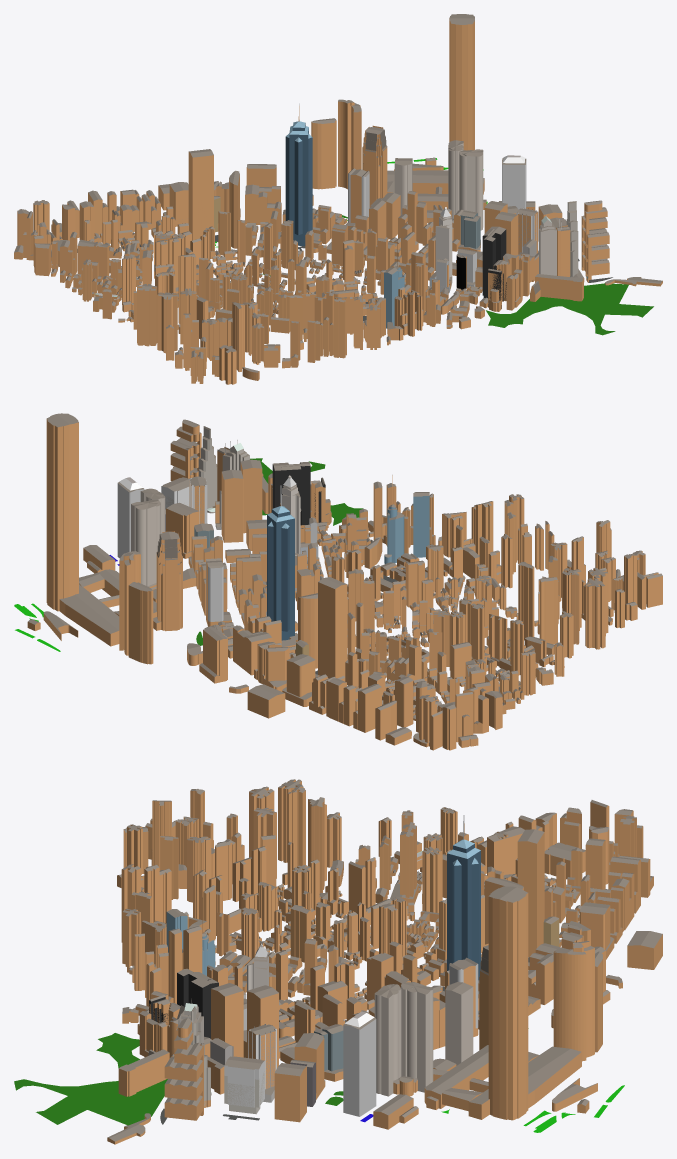
Rendered from HK_full.fbx.
3 renders of one model, top to bottom at view 1: azimuth 30°, elevation 25°; view 2: azimuth 150°, elevation 25°; view 3: azimuth 270°, elevation 25°, orthographic. The views are drawn at different scales.
Visible parts, largest first — view 1: element.200, 國際金融中心二期 Two International Finance Centre, 交易廣場 Exchange Square, 中環中心 The Center, map_3.osm_forest, 中遠大廈 Cosco Tower, 滙豐總行大廈 HSBC Main Building, 國際金融中心一期 One International Finance Centre, 國際金融中心商場 International Finance Centre Mall, 置地廣塲中庭 LANDMARK ATRIUM, 雍景臺1座 Robinson Place Tower 1, 怡和大廈 Jardine House (+28 smaller); view 2: 國際金融中心二期 Two International Finance Centre, 中環中心 The Center, element.200, 國際金融中心商場 International Finance Centre Mall, 中遠大廈 Cosco Tower, 置地廣塲中庭 LANDMARK ATRIUM, 國際金融中心一期 One International Finance Centre, 交易廣場 Exchange Square, 滙豐總行大廈 HSBC Main Building, element.039, 雍景臺1座 Robinson Place Tower 1, 海港政府大樓 Harbour Building (+50 smaller); view 3: 國際金融中心二期 Two International Finance Centre, 交易廣場 Exchange Square, element.200, map_3.osm_forest, 國際金融中心商場 International Finance Centre Mall, 中環中心 The Center, 置地廣塲中庭 LANDMARK ATRIUM, 怡和大廈 Jardine House, 滙豐總行大廈 HSBC Main Building, 中遠大廈 Cosco Tower, 置地太子 LANDMARK PRINCE'S, element.033 (+63 smaller).
Part boxes in pixels (<box>): element.200: <box>311,99,361,189</box>; 國際金融中心二期 Two International Finance Centre: <box>449,14,474,150</box>; 交易廣場 Exchange Square: <box>394,140,483,230</box>; 中環中心 The Center: <box>285,103,312,245</box>; map_3.osm_forest: <box>262,215,653,335</box>; 中遠大廈 Cosco Tower: <box>188,149,213,240</box>; 滙豐總行大廈 HSBC Main Building: <box>581,200,609,279</box>; 國際金融中心一期 One International Finance Centre: <box>362,125,387,205</box>; 國際金融中心商場 International Finance Centre Mall: <box>387,170,484,205</box>; 置地廣塲中庭 LANDMARK ATRIUM: <box>484,201,534,282</box>; 雍景臺1座 Robinson Place Tower 1: <box>137,284,157,346</box>; 怡和大廈 Jardine House: <box>502,155,526,209</box>; 國際金融中心二期 Two International Finance Centre: <box>46,413,78,611</box>; 中環中心 The Center: <box>267,485,294,640</box>; element.200: <box>119,551,153,664</box>; 國際金融中心商場 International Finance Centre Mall: <box>59,569,156,646</box>; 中遠大廈 Cosco Tower: <box>318,577,347,678</box>; 置地廣塲中庭 LANDMARK ATRIUM: <box>221,459,262,542</box>; 國際金融中心一期 One International Finance Centre: <box>156,531,182,631</box>; 交易廣場 Exchange Square: <box>131,488,165,586</box>; 滙豐總行大廈 HSBC Main Building: <box>170,419,201,481</box>; element.039: <box>272,462,310,528</box>; 雍景臺1座 Robinson Place Tower 1: <box>585,578,605,649</box>; 海港政府大樓 Harbour Building: <box>199,626,227,683</box>; 國際金融中心二期 Two International Finance Centre: <box>488,886,528,1120</box>; 交易廣場 Exchange Square: <box>374,982,473,1096</box>; element.200: <box>553,940,602,1061</box>; map_3.osm_forest: <box>14,1028,528,1125</box>; 國際金融中心商場 International Finance Centre Mall: <box>424,1045,581,1119</box>; 中環中心 The Center: <box>447,815,480,980</box>; 置地廣塲中庭 LANDMARK ATRIUM: <box>204,983,278,1067</box>; 怡和大廈 Jardine House: <box>343,1011,376,1116</box>; 滙豐總行大廈 HSBC Main Building: <box>164,1018,203,1120</box>; 中遠大廈 Cosco Tower: <box>517,829,544,957</box>; 置地太子 LANDMARK PRINCE'S: <box>224,1056,264,1114</box>; element.033: <box>274,1063,306,1122</box>.
Bounding box in the file's own units: 120339 × 41580 × 111665.
